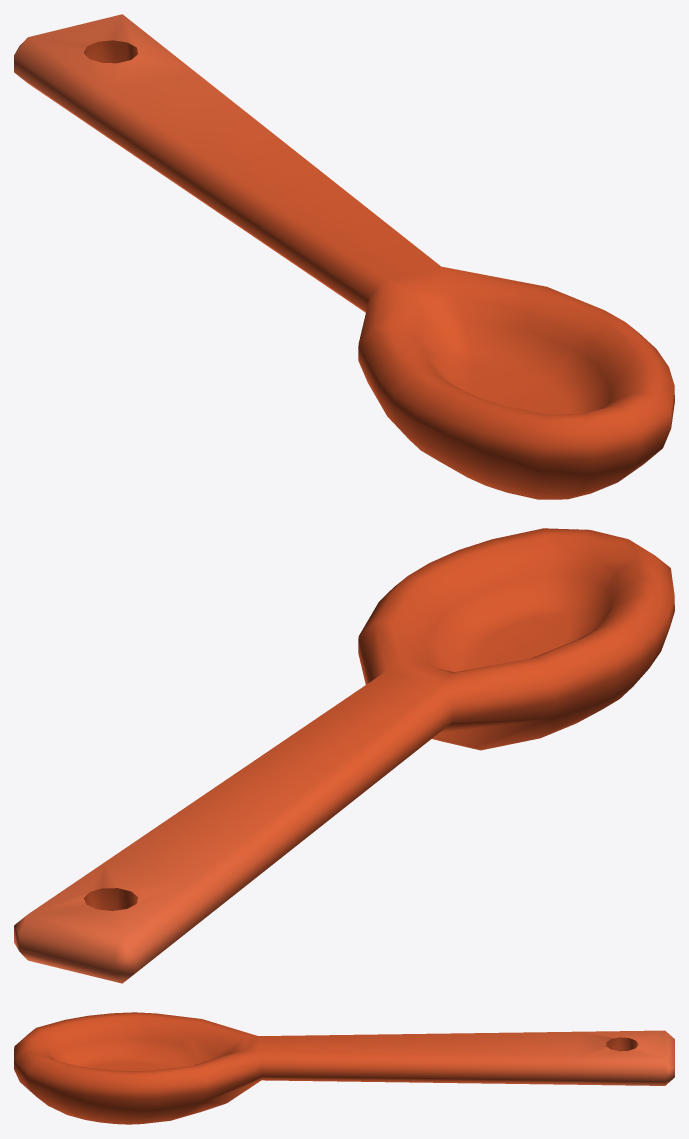
Rendered from Utensils_002.fbx.
3 views of the same model, one above another, from view 1: azimuth 30°, elevation 25°; view 2: azimuth 150°, elevation 25°; view 3: azimuth 270°, elevation 25° (orthographic). The views are drawn at different scales.
Parts seen in each view (by area): view 1: Utensils_002; view 2: Utensils_002; view 3: Utensils_002.
Part boxes in pixels (x1,y1,x2,y2): Utensils_002: (14, 14, 674, 499); Utensils_002: (14, 528, 674, 983); Utensils_002: (14, 1012, 674, 1124).
Size of the model in its own units: 0.057 by 0.0248 by 0.2205.
